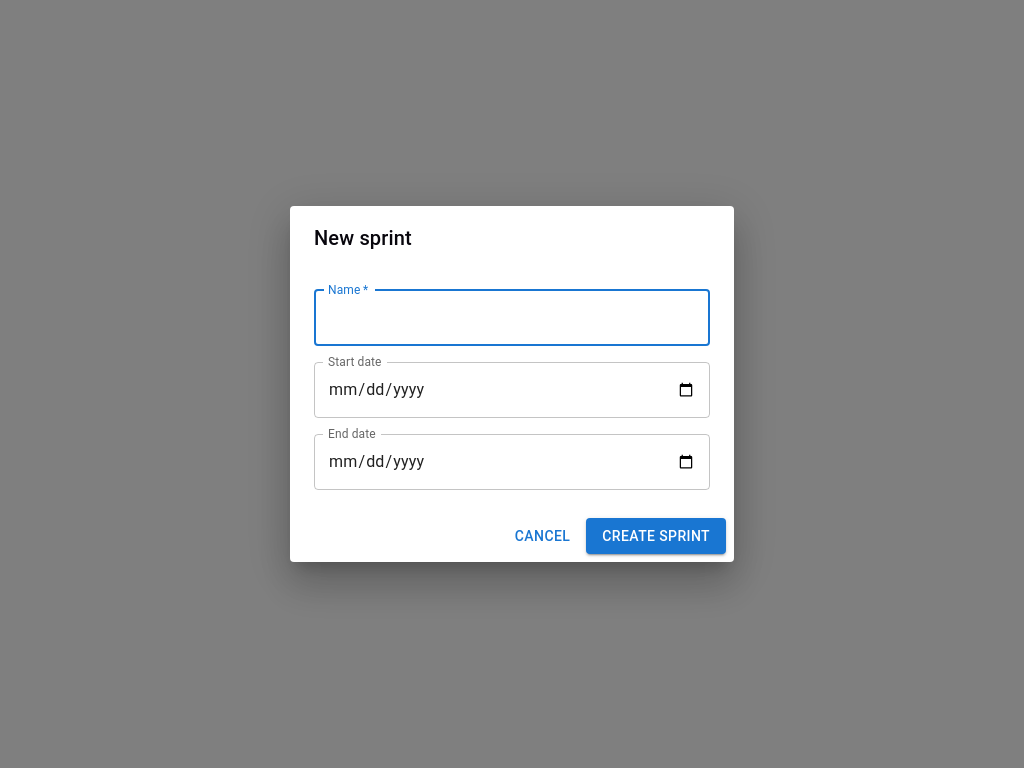
CreateSprintDialog › shows validation error when end date is before start date
In the field labelled "Name *": (512, 318) [314,290,710,346], type "Sprint 1"
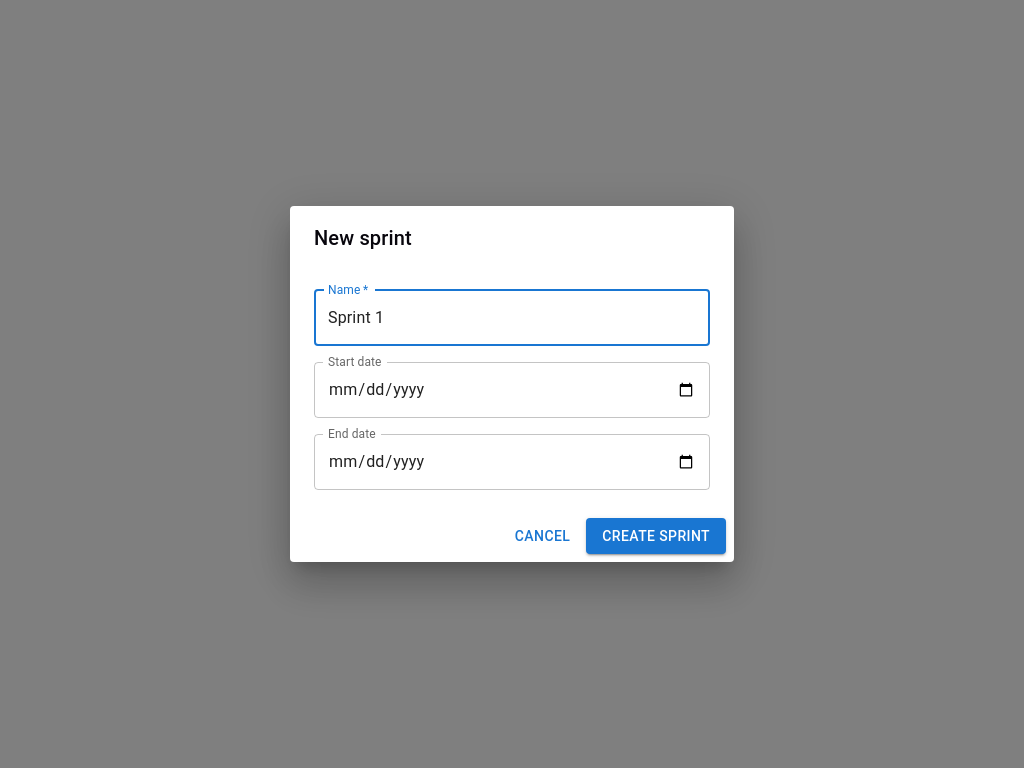
In the date field labelled "Start date": (512, 390) [314,362,710,418], type "2025-06-10"
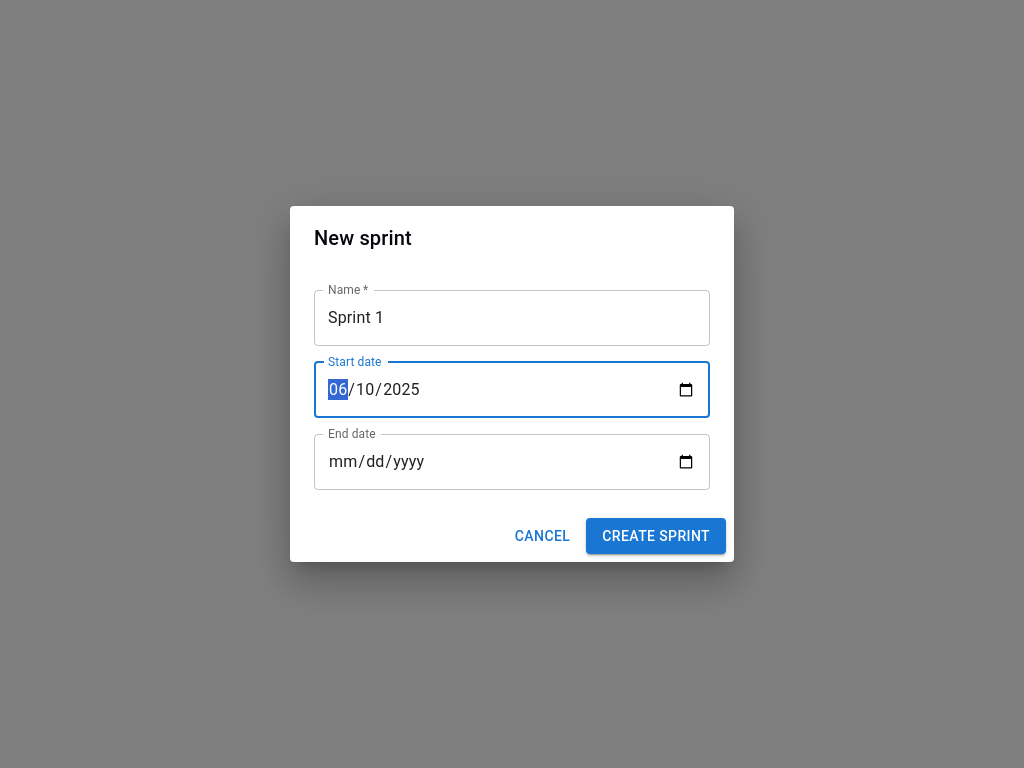
In the date field labelled "End date": (512, 462) [314,434,710,490], type "2025-06-01"
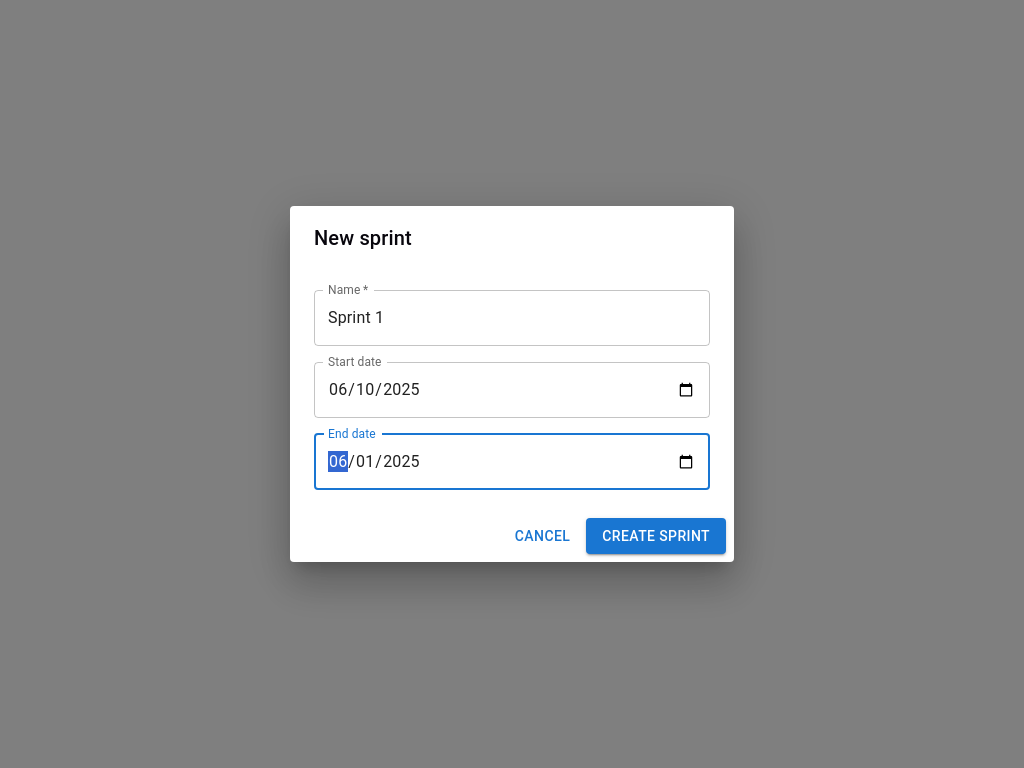
Click the button "Create sprint": click(656, 536) [586,518,726,554]
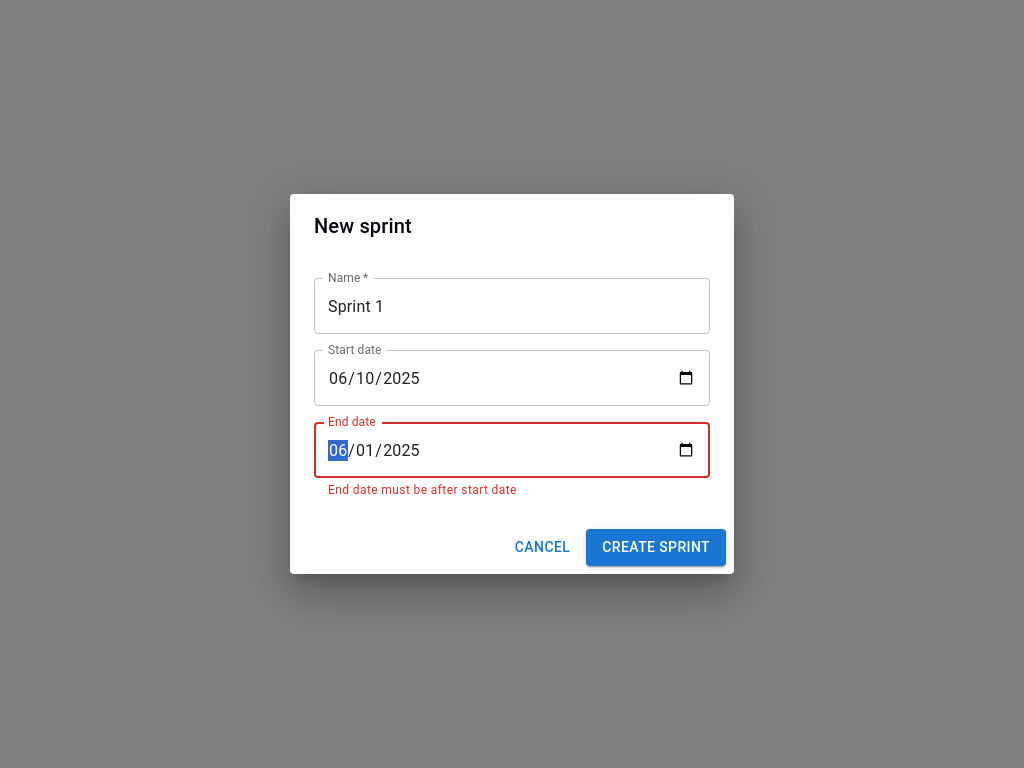
Result: the text "End date must be after start date" is shown at [328,483,517,497]
